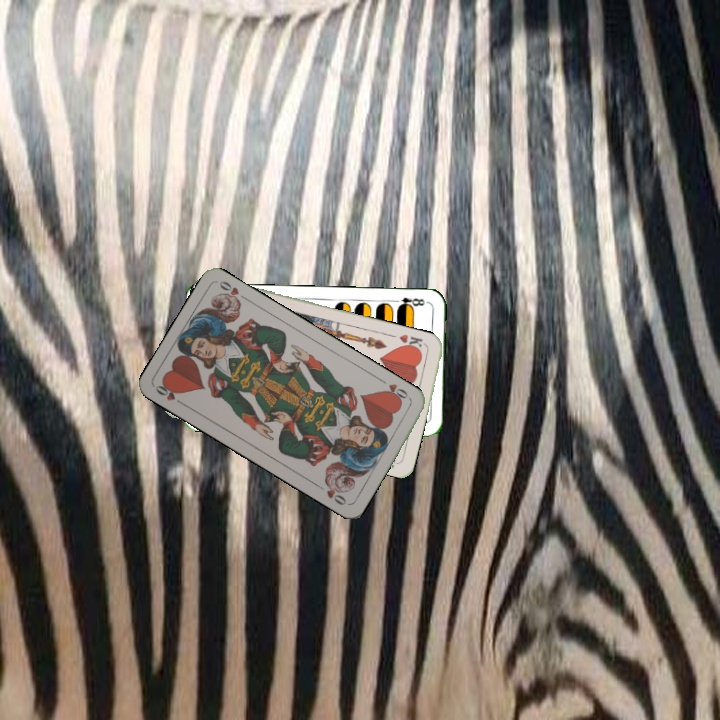E8: (389, 293, 430, 311)
HK: (395, 330, 429, 354)
HO: (151, 379, 189, 409), (377, 375, 413, 405)
